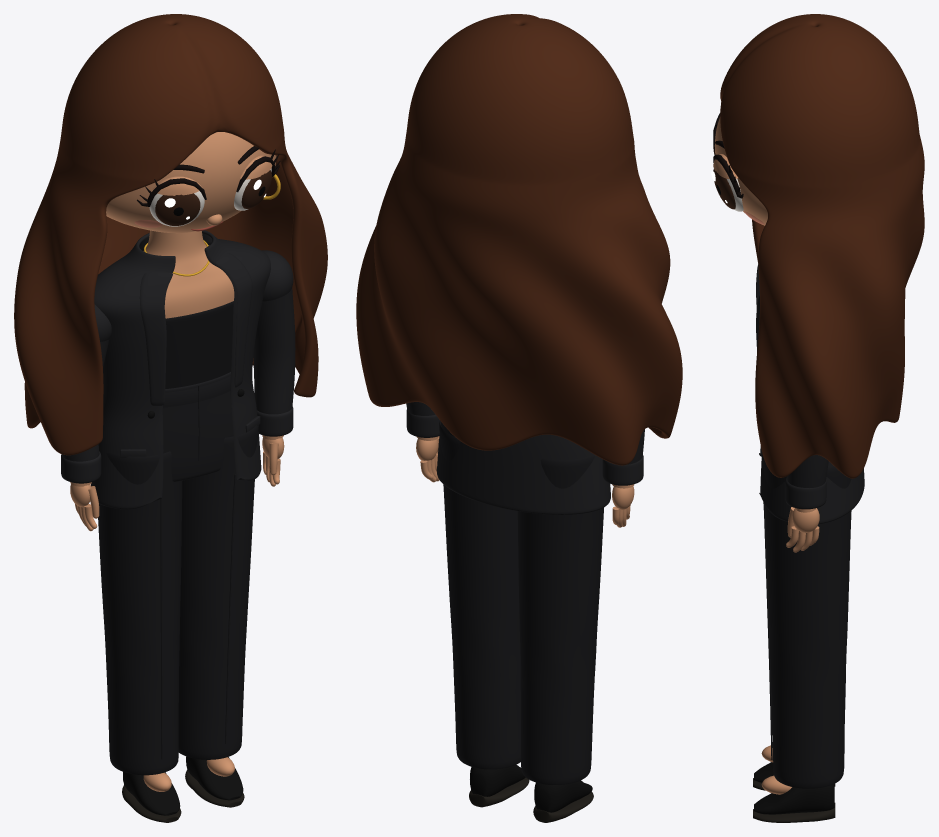
The model's file is womanfinal.glb.
3 views of the same model, side by side, from view 1: azimuth 30°, elevation 25°; view 2: azimuth 150°, elevation 25°; view 3: azimuth 270°, elevation 25° (orthographic).
Visible parts, largest first — view 1: Hair, Right_Leg, Left_Leg, Blazer_Body, Left_Arm, Head, Trousers_Pelvis, Inner_Top, Neck_Torso, Blazer_Lapel_L, Left_Shoe, Right_Shoe (+9 smaller); view 2: Hair, Right_Leg, Left_Leg, Blazer_Body, Right_Shoe, Left_Shoe, Right_Arm, Left_Arm, Left_Hand, Right_Hand; view 3: Hair, Left_Leg, Left_Shoe, Blazer_Body, Left_Arm, Left_Hand, Eye_R, Head, Trouser_Creases, Right_Shoe, Eyebrows_Lashes.
Part boxes in pixels (x1,y1,x2,y2): Hair: (14, 14, 327, 455); Right_Leg: (98, 451, 182, 775); Left_Leg: (178, 425, 258, 759); Blazer_Body: (91, 230, 270, 509); Left_Arm: (253, 250, 295, 436); Head: (106, 132, 276, 233); Trousers_Pelvis: (162, 372, 233, 481); Inner_Top: (165, 301, 233, 388); Neck_Torso: (143, 230, 234, 318); Blazer_Lapel_L: (139, 272, 172, 405); Left_Shoe: (185, 756, 244, 807); Right_Shoe: (122, 772, 181, 822); Hair: (356, 14, 682, 465); Right_Leg: (517, 455, 603, 784); Left_Leg: (439, 420, 520, 769); Blazer_Body: (437, 421, 610, 514); Right_Shoe: (533, 780, 593, 822); Left_Shoe: (469, 764, 529, 807); Right_Arm: (602, 429, 644, 485); Left_Arm: (406, 402, 439, 437); Left_Hand: (416, 436, 439, 482); Right_Hand: (612, 484, 634, 527); Hair: (720, 14, 924, 478); Left_Leg: (762, 454, 851, 788); Left_Shoe: (753, 775, 835, 822); Blazer_Body: (759, 447, 864, 524); Left_Arm: (785, 455, 828, 509); Left_Hand: (786, 507, 819, 552); Eye_R: (711, 154, 743, 211); Head: (714, 117, 767, 225); Trouser_Creases: (760, 446, 772, 759); Right_Shoe: (753, 745, 835, 790); Eyebrows_Lashes: (713, 113, 743, 198).
Size of the model in its own units: 2.07 by 4.93 by 1.23.
